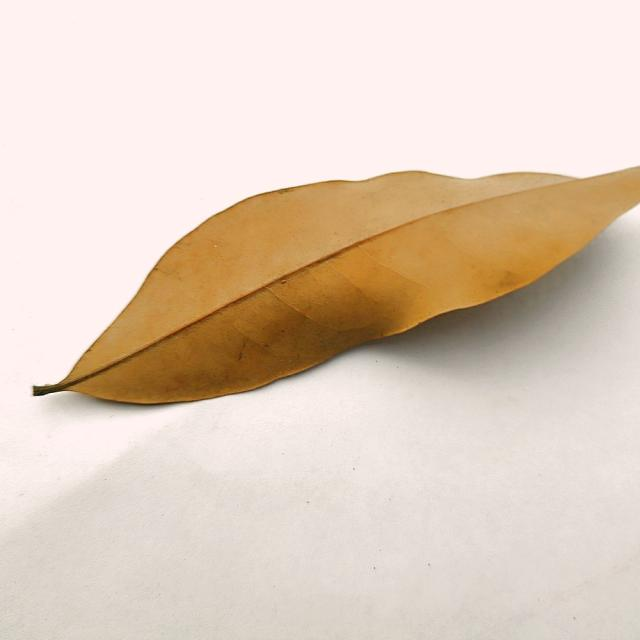Dry_Leaf-Lychee: (33, 165, 639, 409)
